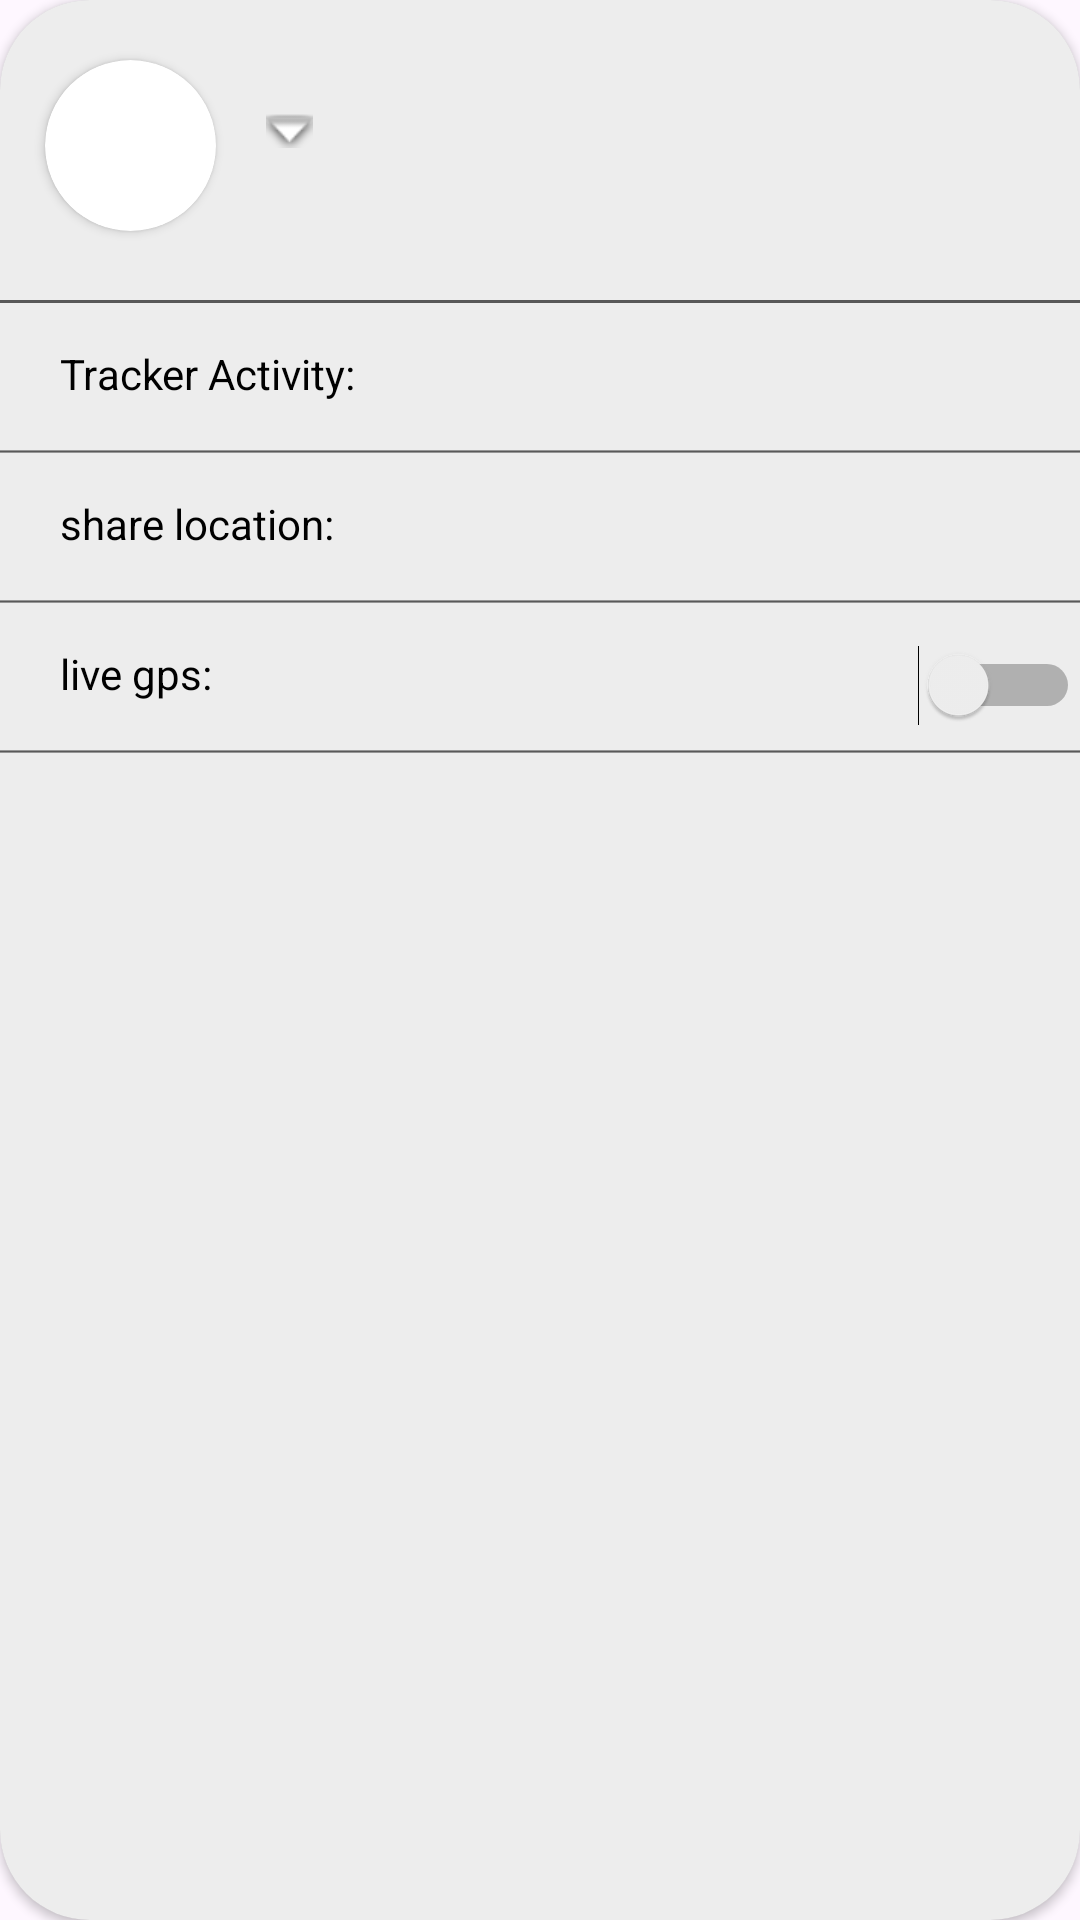

Named icons in this screenshot (1080 × 1920) and their bounding boxes, (x1, y1, x2, y2):
arrow down float: (266, 115, 313, 147)
